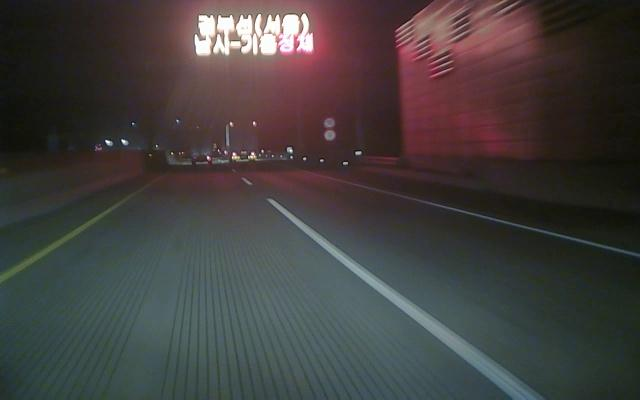lane: (238, 174, 546, 399), (352, 182, 640, 258), (0, 186, 146, 285)
